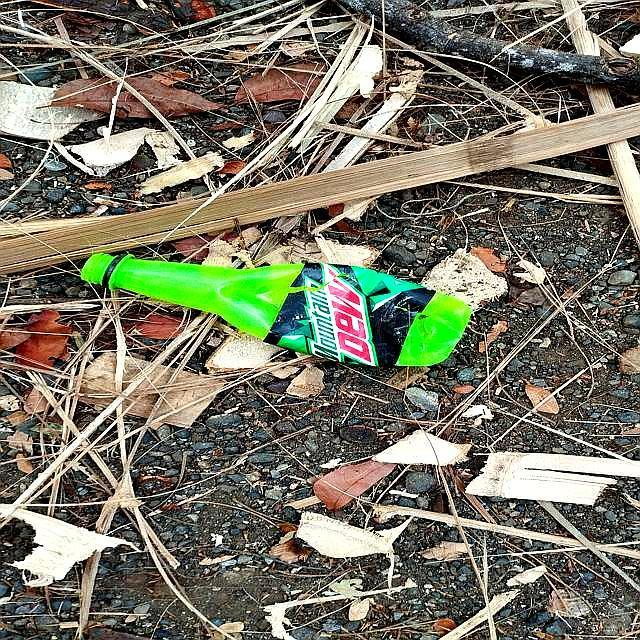Non-biodegradable: (79, 250, 474, 373)
